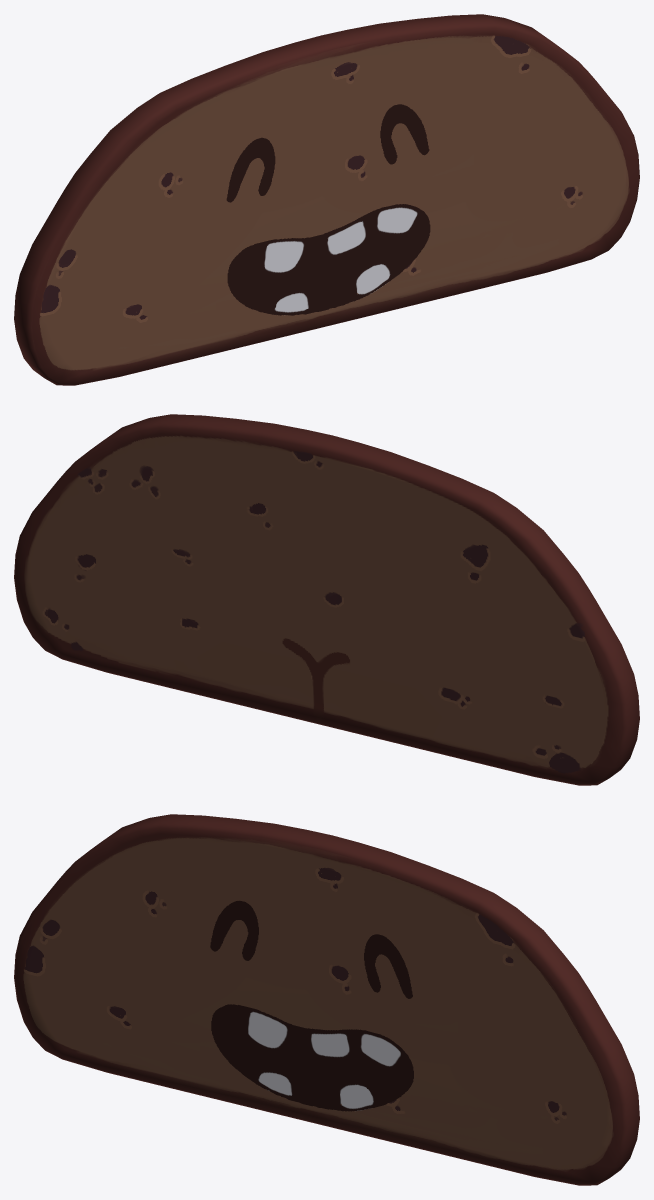
Rendered from M_character_pumpernickel.FBX.
3 renders of one model, top to bottom at view 1: azimuth 30°, elevation 25°; view 2: azimuth 150°, elevation 25°; view 3: azimuth 330°, elevation 25°, orthographic.
Parts seen in each view (by area): view 1: Pumpernickel; view 2: Pumpernickel; view 3: Pumpernickel.
Boxes of the visible parts, <box> form: Pumpernickel: <box>14,14,639,385</box>; Pumpernickel: <box>14,414,639,785</box>; Pumpernickel: <box>14,814,639,1185</box>.
Bounding box in the file's own units: 527 × 230 × 24.04.
